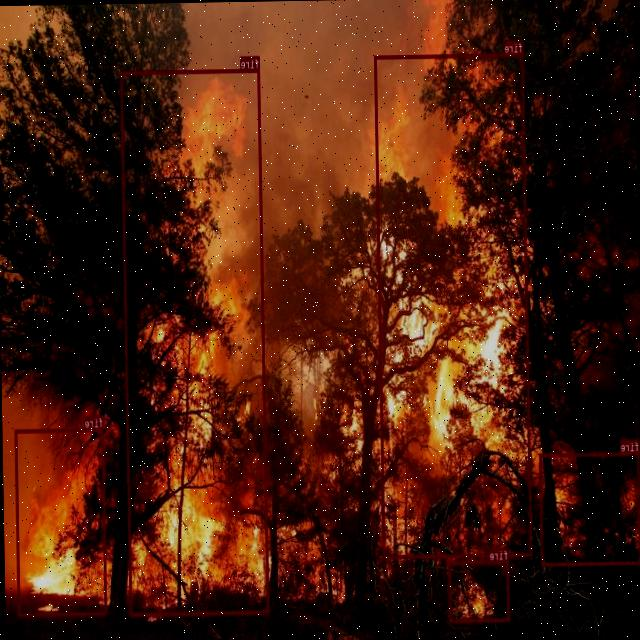fire: (120, 68, 270, 616), (374, 52, 532, 558), (15, 426, 107, 616), (539, 450, 640, 565), (448, 560, 509, 622)
